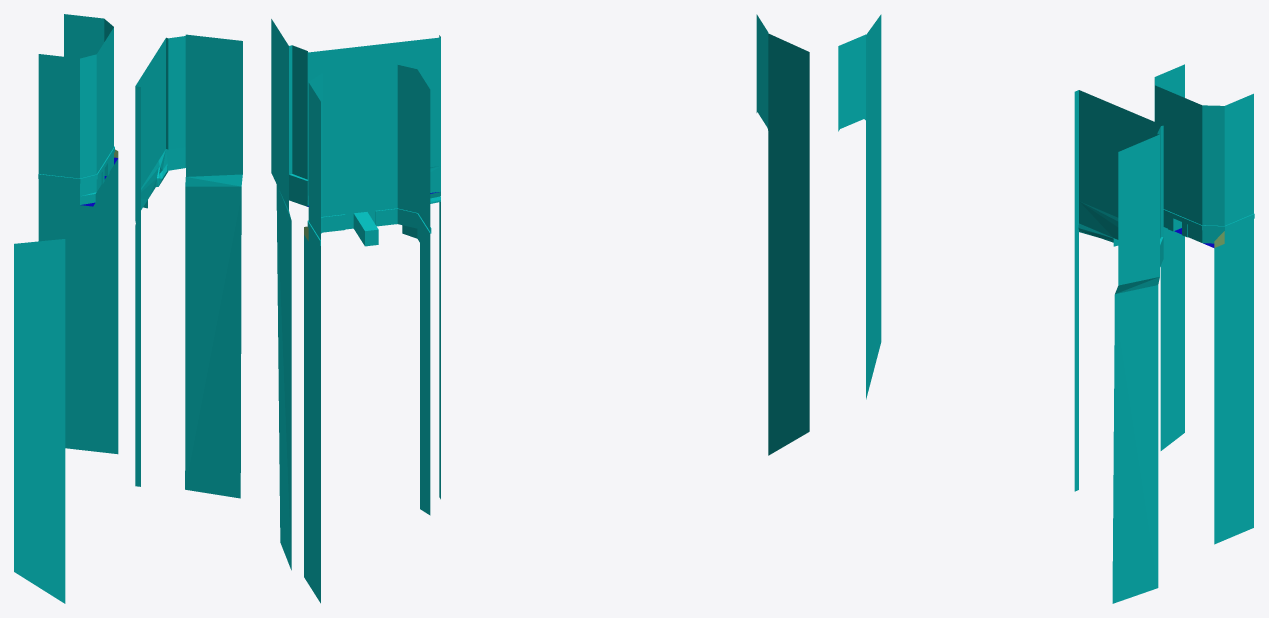
Rendered from STG0100_COLI_13.OBJ.
The picture shows the model from 3 angles, left to right: view 1: azimuth 30°, elevation 25°; view 2: azimuth 150°, elevation 25°; view 3: azimuth 270°, elevation 25°; orthographic projection. The views are drawn at different scales.
Visible parts, largest first — view 1: STG0100_COLI_13_02000000; view 2: STG0100_COLI_13_02000000; view 3: STG0100_COLI_13_02000000.
Part boxes in pixels (x1=…): STG0100_COLI_13_02000000: x1=14, y1=14, x2=242, y2=603; STG0100_COLI_13_02000000: x1=271, y1=14, x2=809, y2=603; STG0100_COLI_13_02000000: x1=838, y1=14, x2=1254, y2=603.
Bounding box in the file's own units: 1632 × 2060 × 1696.
